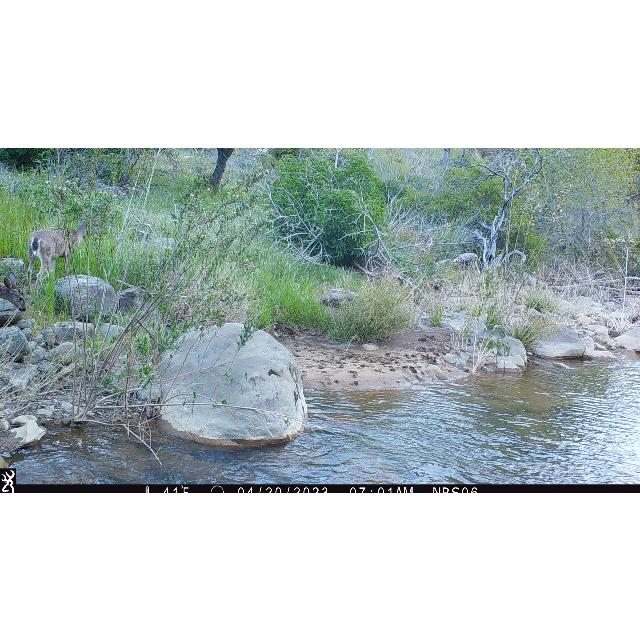animals: (29, 220, 90, 286)
